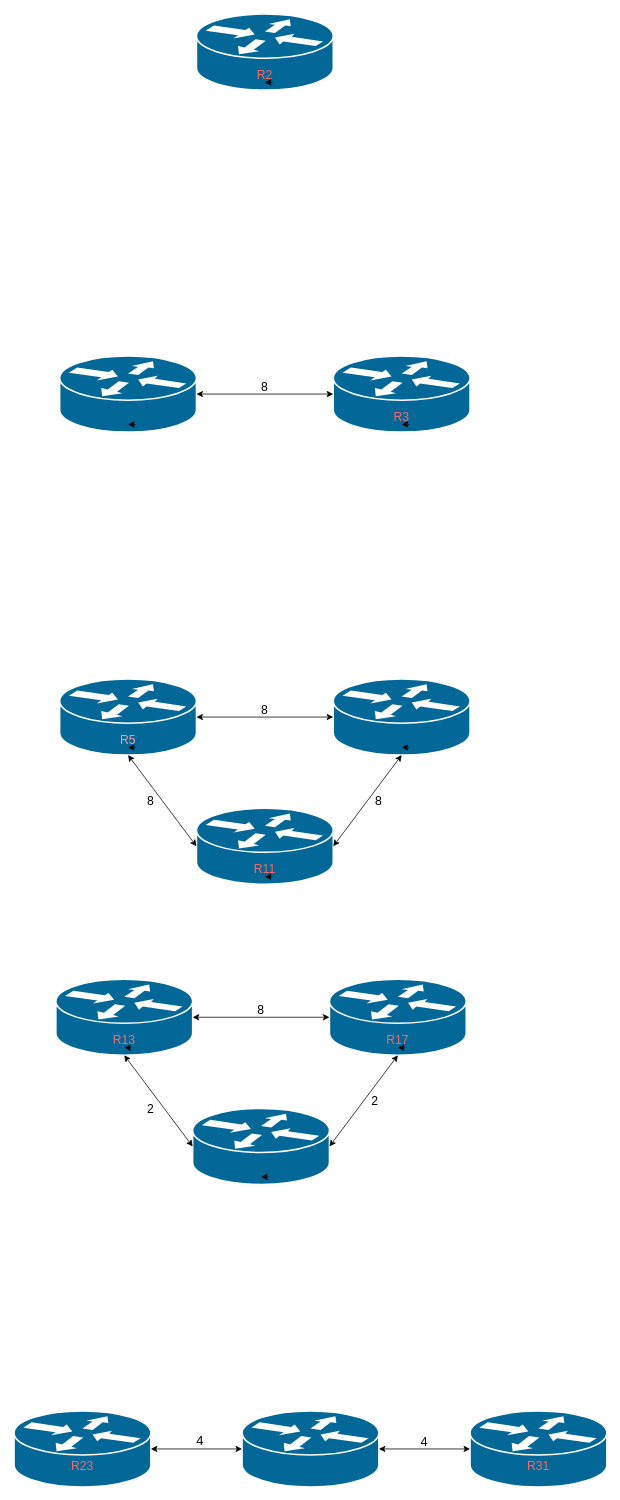
This 620x1500 diagram has some shape labels left out. Here are the shapes that lost their labels. From the top down, the centre of each, then its label:
the point at 128,393: R1
the point at 401,716: R7
the point at 261,1146: R19
the point at 310,1448: R29
